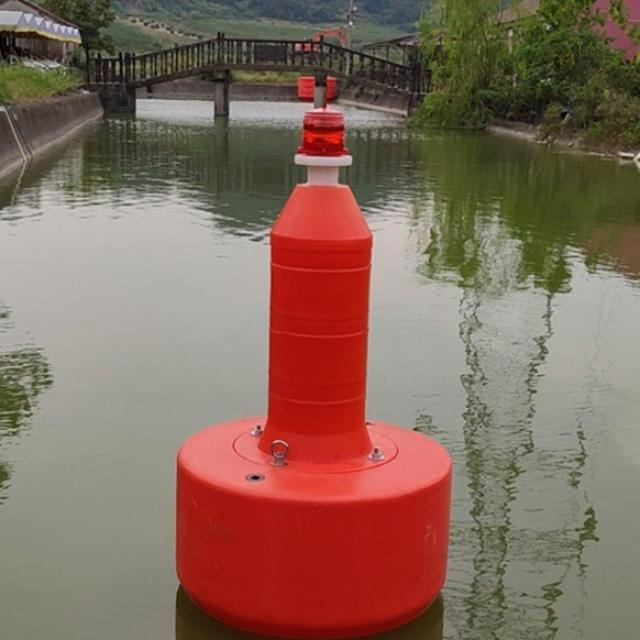buoy: (166, 102, 454, 634)
